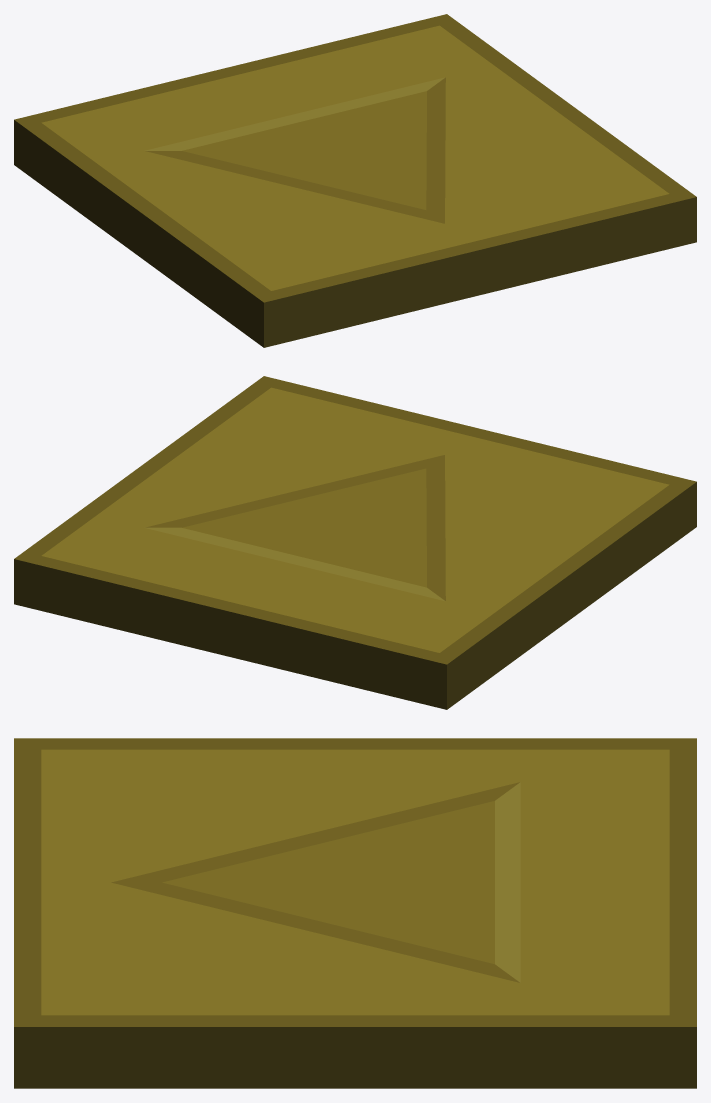
The model's file is SW_Spawner_FromGround.fbx.
3 renders of one model, top to bottom at view 1: azimuth 30°, elevation 25°; view 2: azimuth 150°, elevation 25°; view 3: azimuth 270°, elevation 25°, orthographic. The views are drawn at different scales.
Parts seen in each view (by area): view 1: SpawnTile; view 2: SpawnTile; view 3: SpawnTile.
Part boxes in pixels (x1,y1,x2,y2): SpawnTile: (14, 14, 696, 347); SpawnTile: (14, 376, 696, 709); SpawnTile: (14, 738, 696, 1088).
Size of the model in its own units: 100 by 10 by 100.
